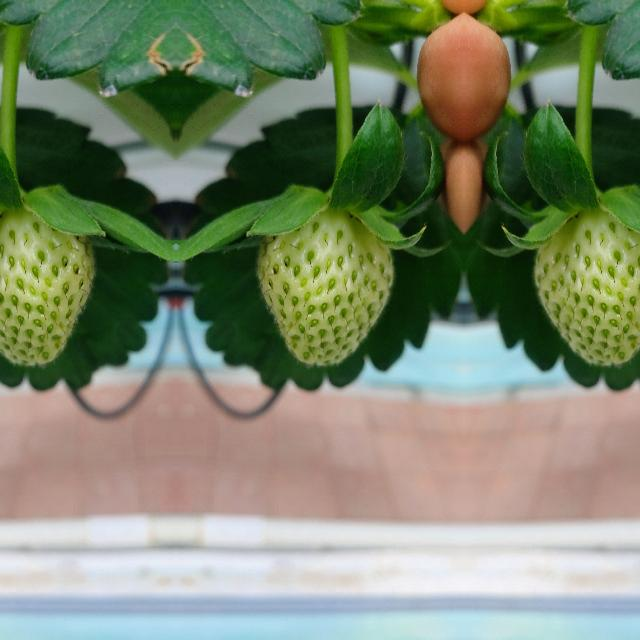Health_25: (254, 204, 394, 368), (532, 204, 640, 368), (0, 204, 96, 368)
